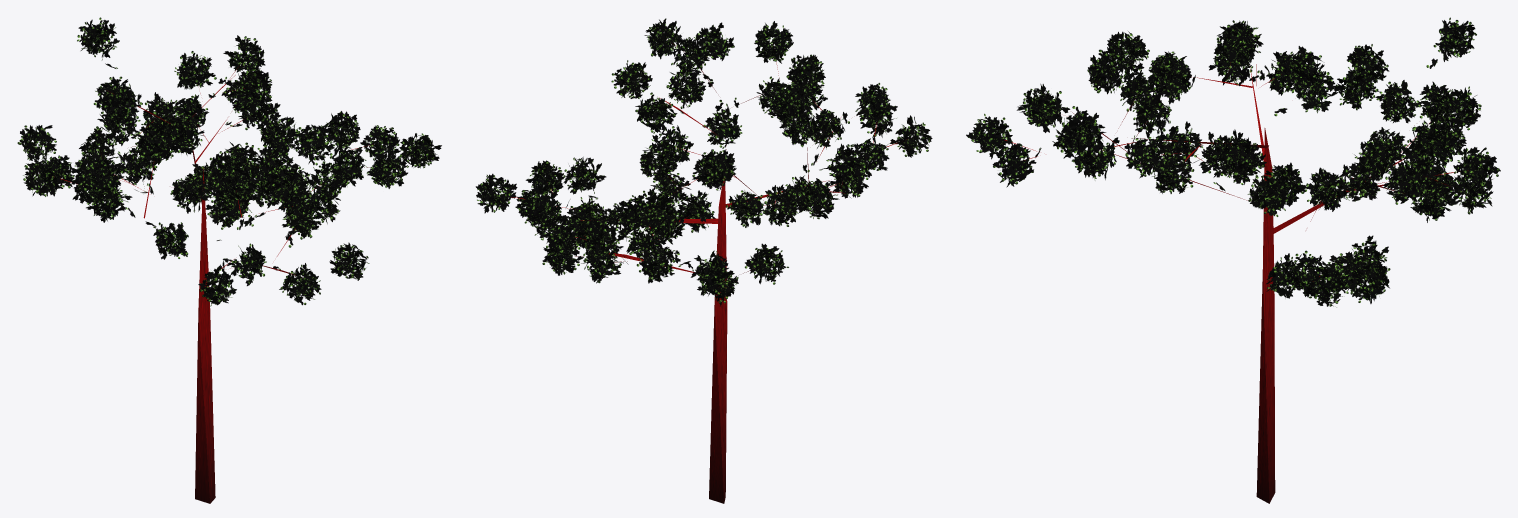
File: pine_open_v03_LOD1.glb
3 renders of one model, left to right at view 1: azimuth 30°, elevation 25°; view 2: azimuth 150°, elevation 25°; view 3: azimuth 270°, elevation 25°, orthographic. The views are drawn at different scales.
Visible parts, largest first — view 1: pine_open_v03_LOD1; view 2: pine_open_v03_LOD1; view 3: pine_open_v03_LOD1.
Boxes of the visible parts, <box> form: pine_open_v03_LOD1: <box>17,17,441,503</box>; pine_open_v03_LOD1: <box>475,18,932,503</box>; pine_open_v03_LOD1: <box>966,17,1500,503</box>.
Bounding box in the file's own units: 20.95 × 28.07 × 29.07.
2 materials, 2 textured.
